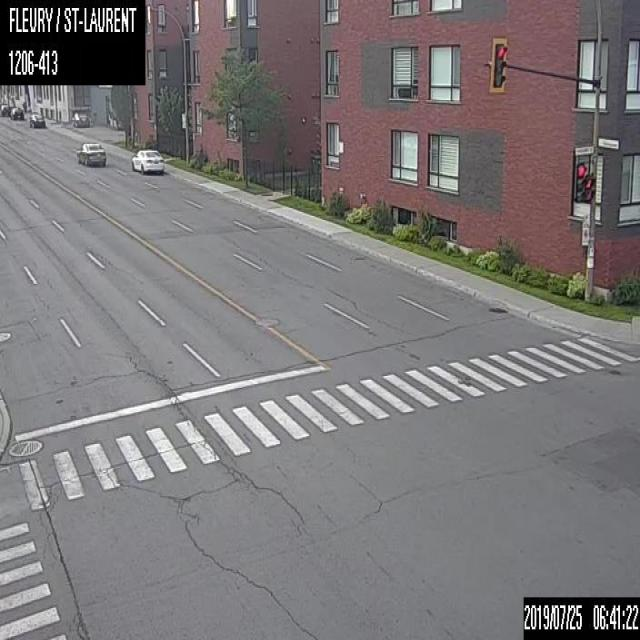vehicle: (130, 147, 165, 173), (76, 140, 106, 167), (27, 110, 44, 126), (72, 111, 88, 126), (10, 106, 23, 118), (0, 104, 10, 115)
